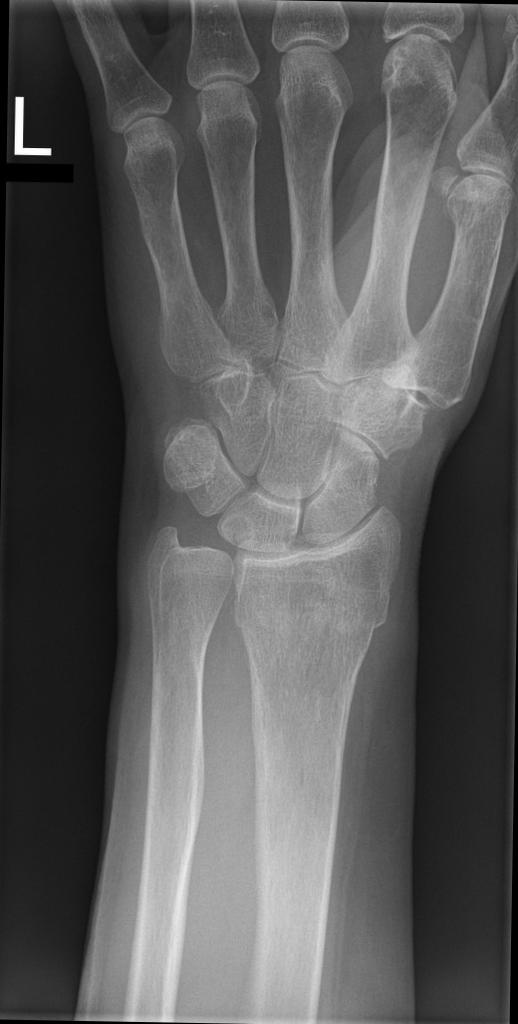line: (230, 590, 388, 644)
